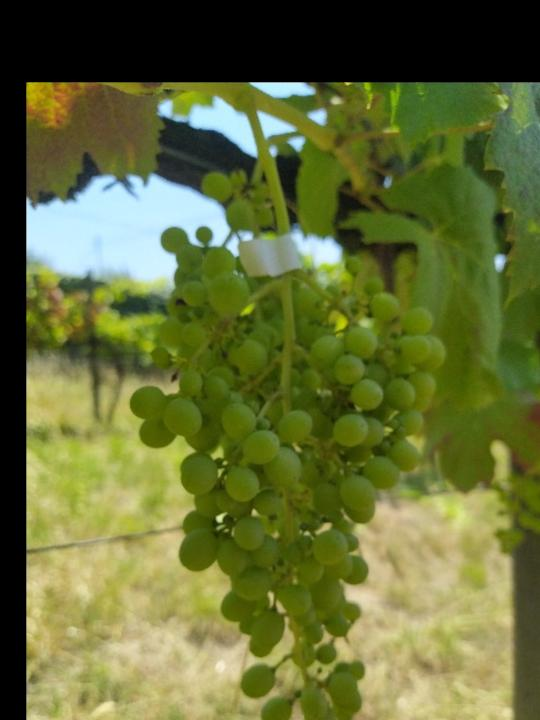grape: (127, 225, 450, 720)
